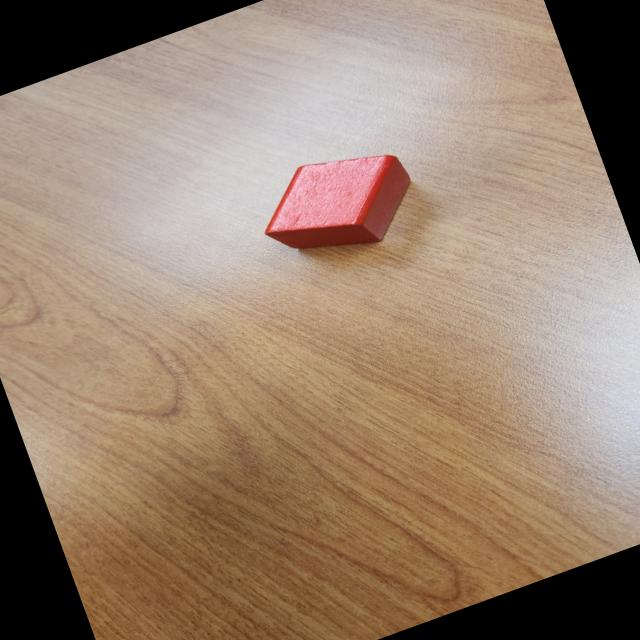red: (245, 133, 428, 280)
